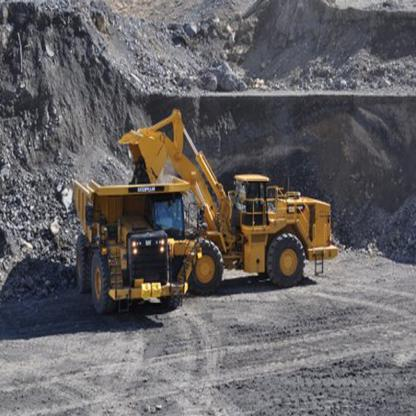bull_dozer/loader/grader: (126, 106, 338, 295)
dump_truck: (70, 171, 196, 316)
